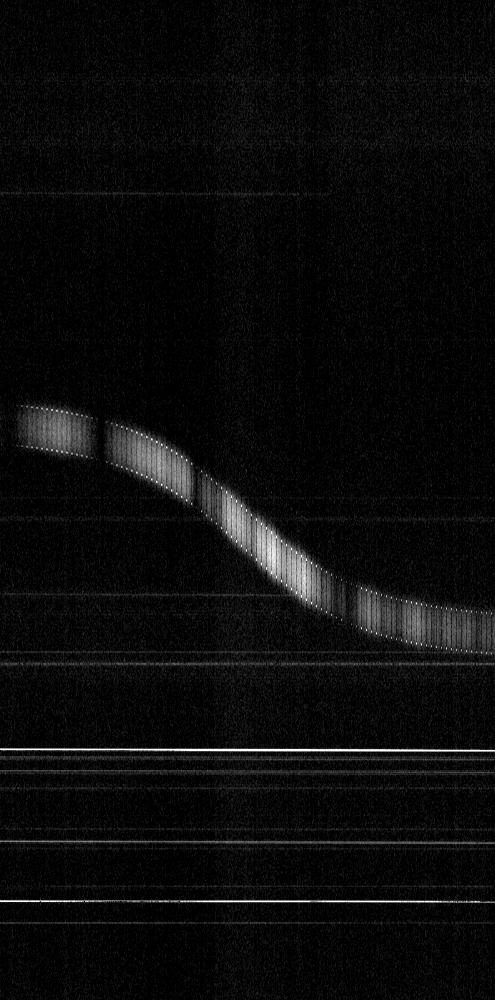signal: (0, 0, 494, 999)
